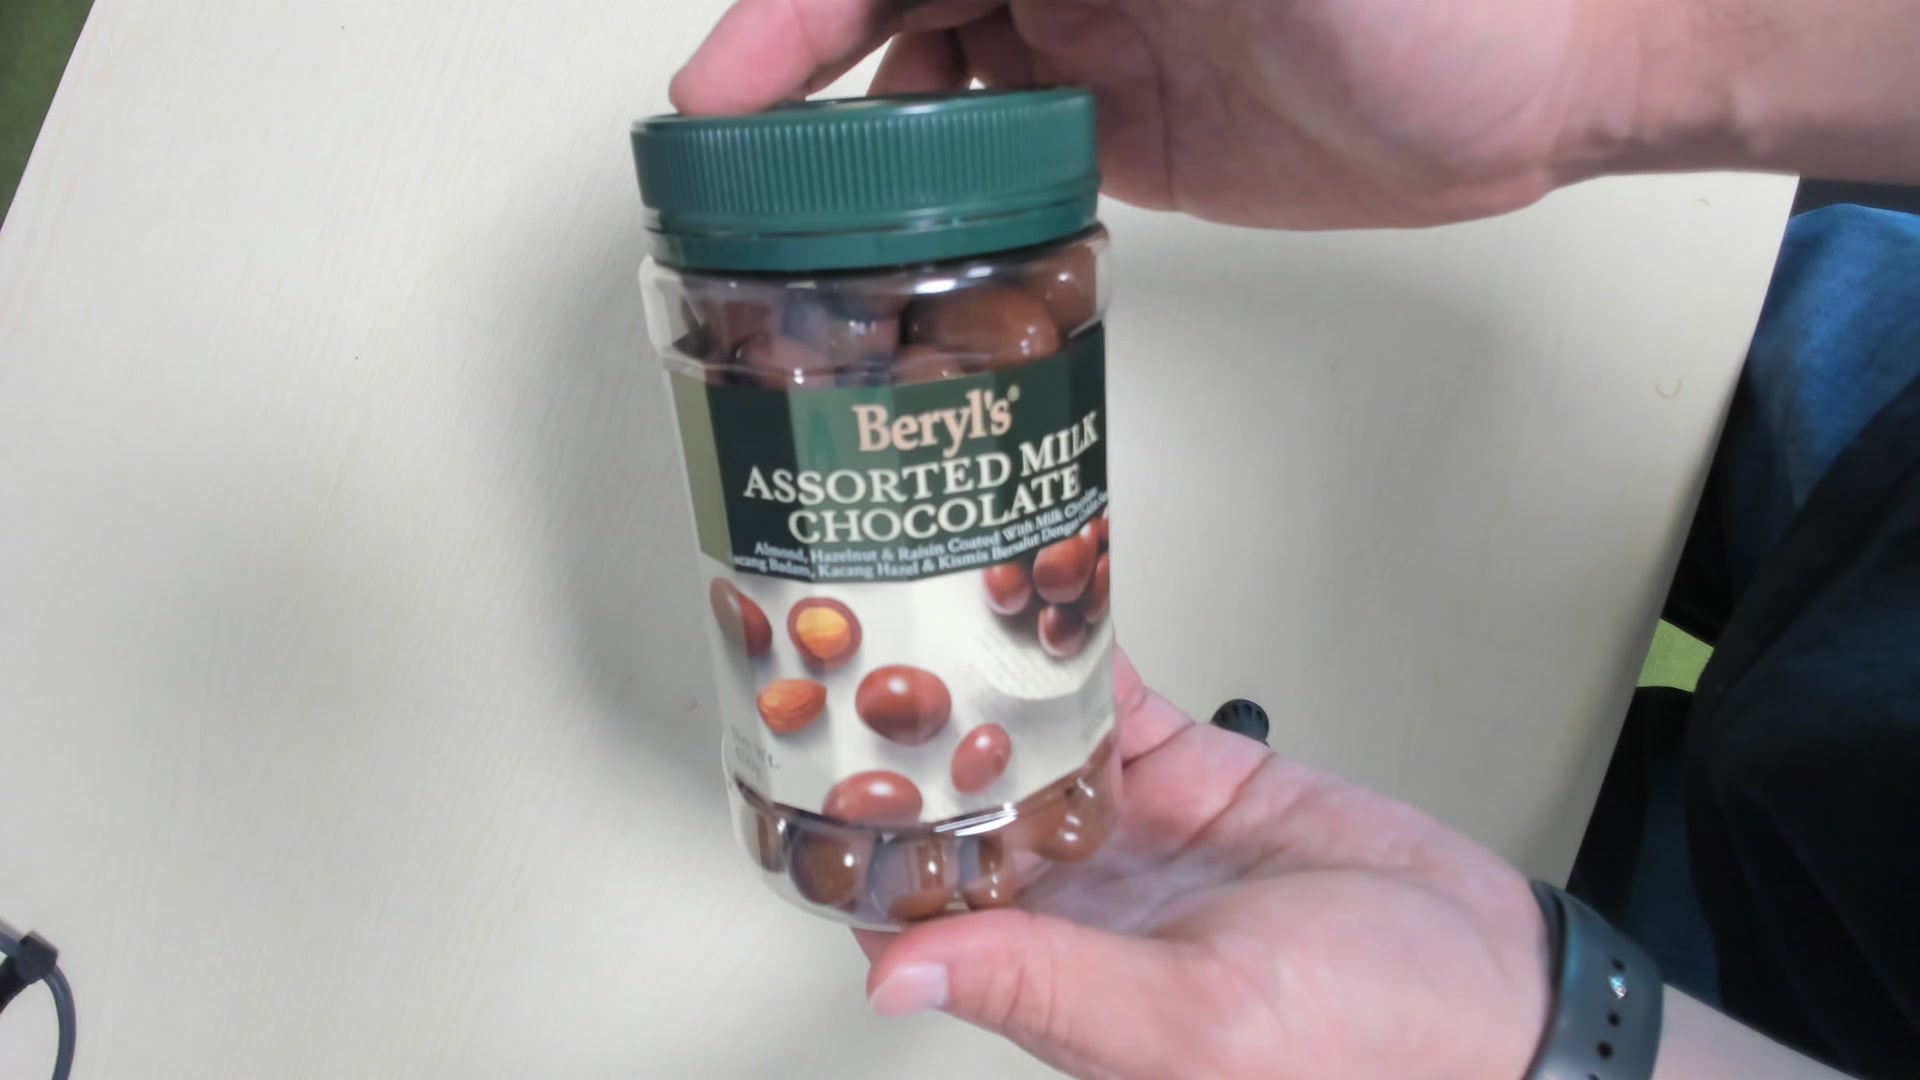SweetsChocolatesOthers_400-499g_Halal_Nonhealthy: (626, 94, 1124, 927)
